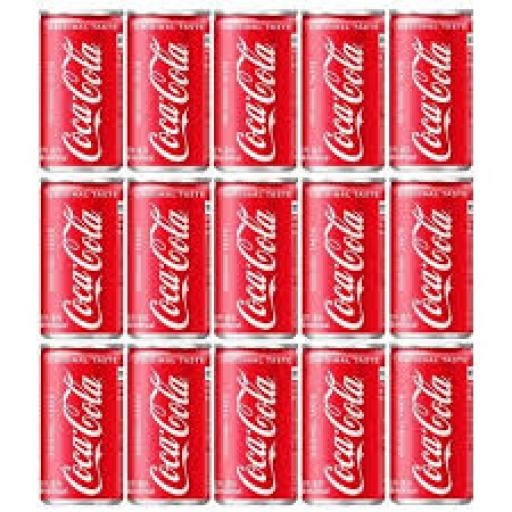Coca: (31, 1, 125, 174), (385, 340, 478, 502), (35, 339, 125, 505), (126, 10, 216, 174), (387, 8, 477, 172), (213, 5, 300, 174), (126, 339, 214, 506), (124, 179, 214, 341), (384, 181, 474, 341), (36, 177, 124, 340), (298, 342, 385, 506), (300, 9, 388, 170), (212, 181, 299, 341), (300, 181, 387, 338), (216, 346, 298, 505)
